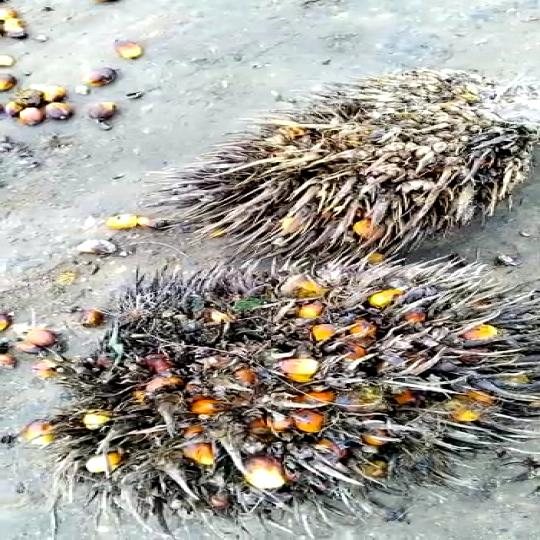terlalu masak: (43, 267, 540, 524), (165, 79, 540, 270)
